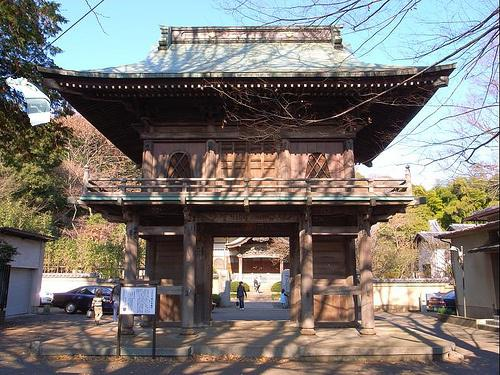tampered: (6, 78, 50, 126)
